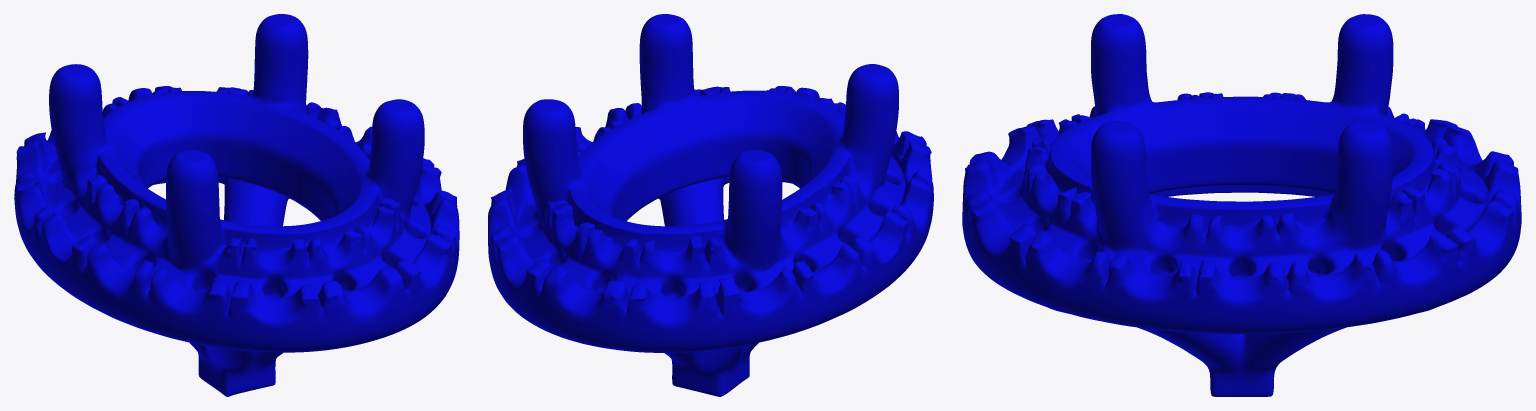
The model's file is Head_Single Halo_Oval_0.50ct_Head.glb.
3 renders of one model, left to right at view 1: azimuth 30°, elevation 25°; view 2: azimuth 150°, elevation 25°; view 3: azimuth 270°, elevation 25°, orthographic. The views are drawn at different scales.
Size of the model in its own units: 0.00732 by 0.00575 by 0.00939.
